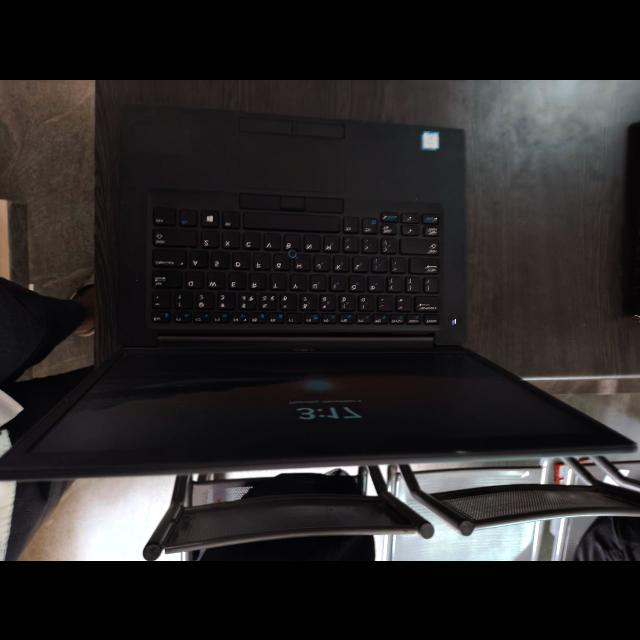laptop: (0, 104, 636, 478)
